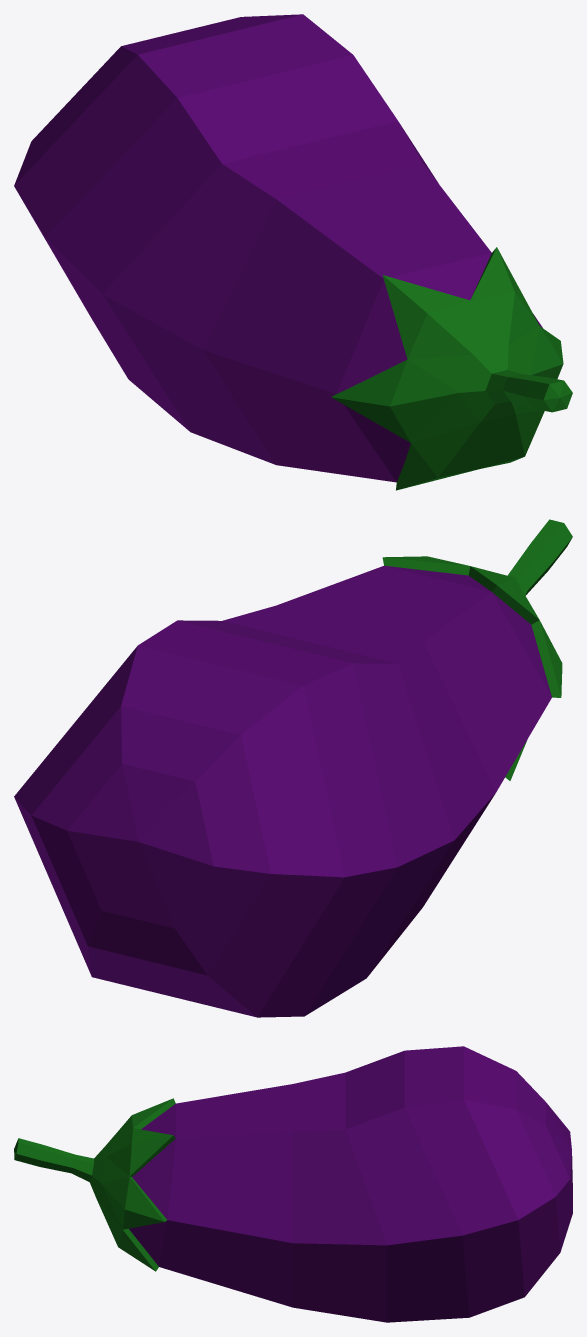
File: EggPlant_01.obj
3 renders of one model, top to bottom at view 1: azimuth 30°, elevation 25°; view 2: azimuth 150°, elevation 25°; view 3: azimuth 270°, elevation 25°, orthographic. The views are drawn at different scales.
Visible parts, largest first — view 1: pasted__pCylinder1 group; view 2: pasted__pCylinder1 group; view 3: pasted__pCylinder1 group.
Part boxes in pixels (x1,y1,x2,y2): pasted__pCylinder1 group: (14,14,572,490); pasted__pCylinder1 group: (14,519,572,1017); pasted__pCylinder1 group: (14,1046,572,1322).
Bounding box in the file's own units: 51.68 × 46.8 × 107.
